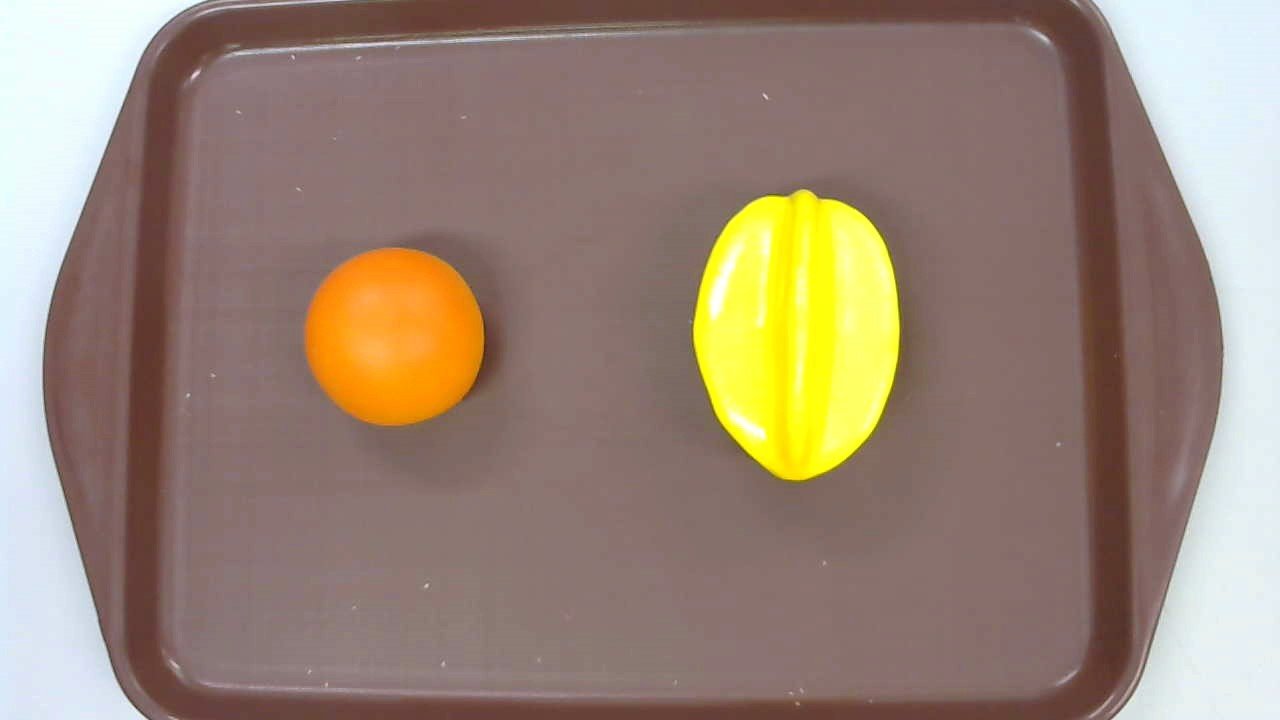bun: (303, 247, 485, 427)
star fruit: (693, 190, 899, 480)
